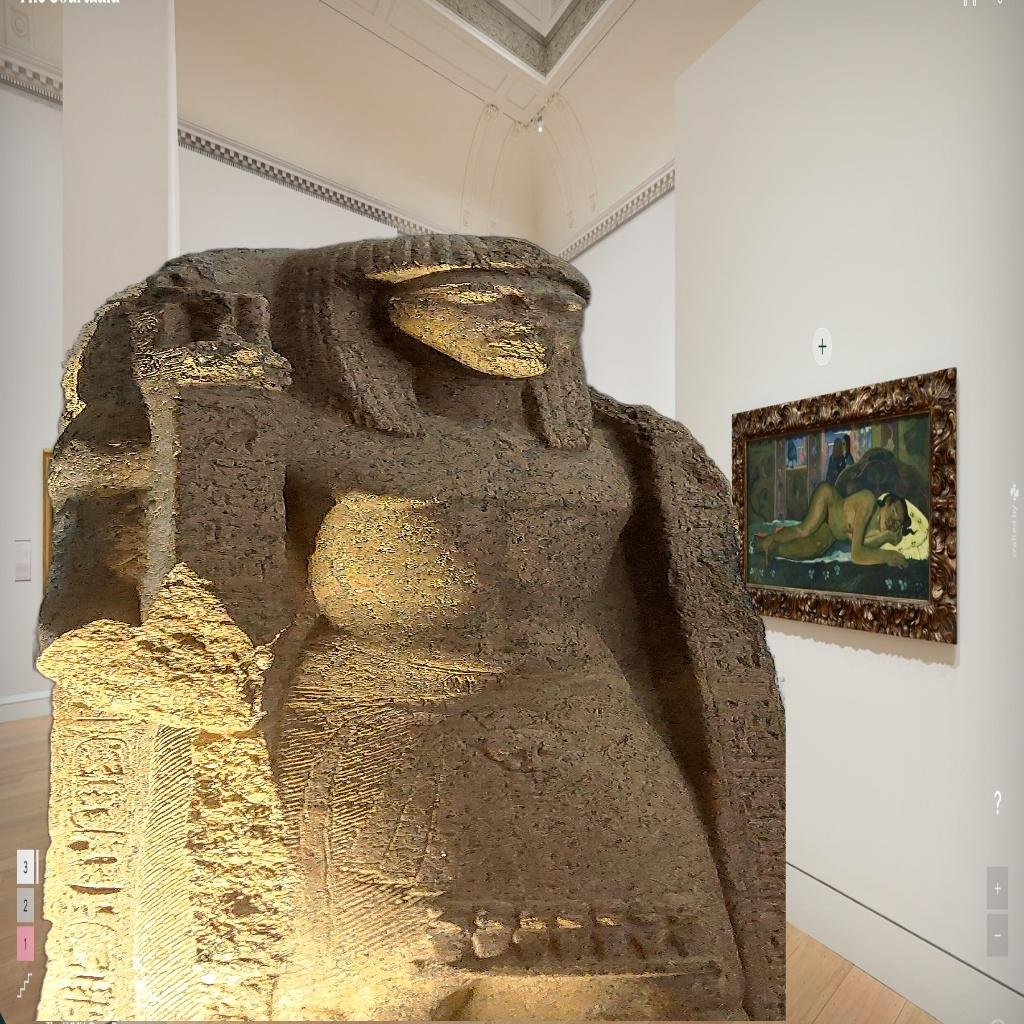Statue of Merenptah as standard Bearer: (32, 217, 786, 1021)
